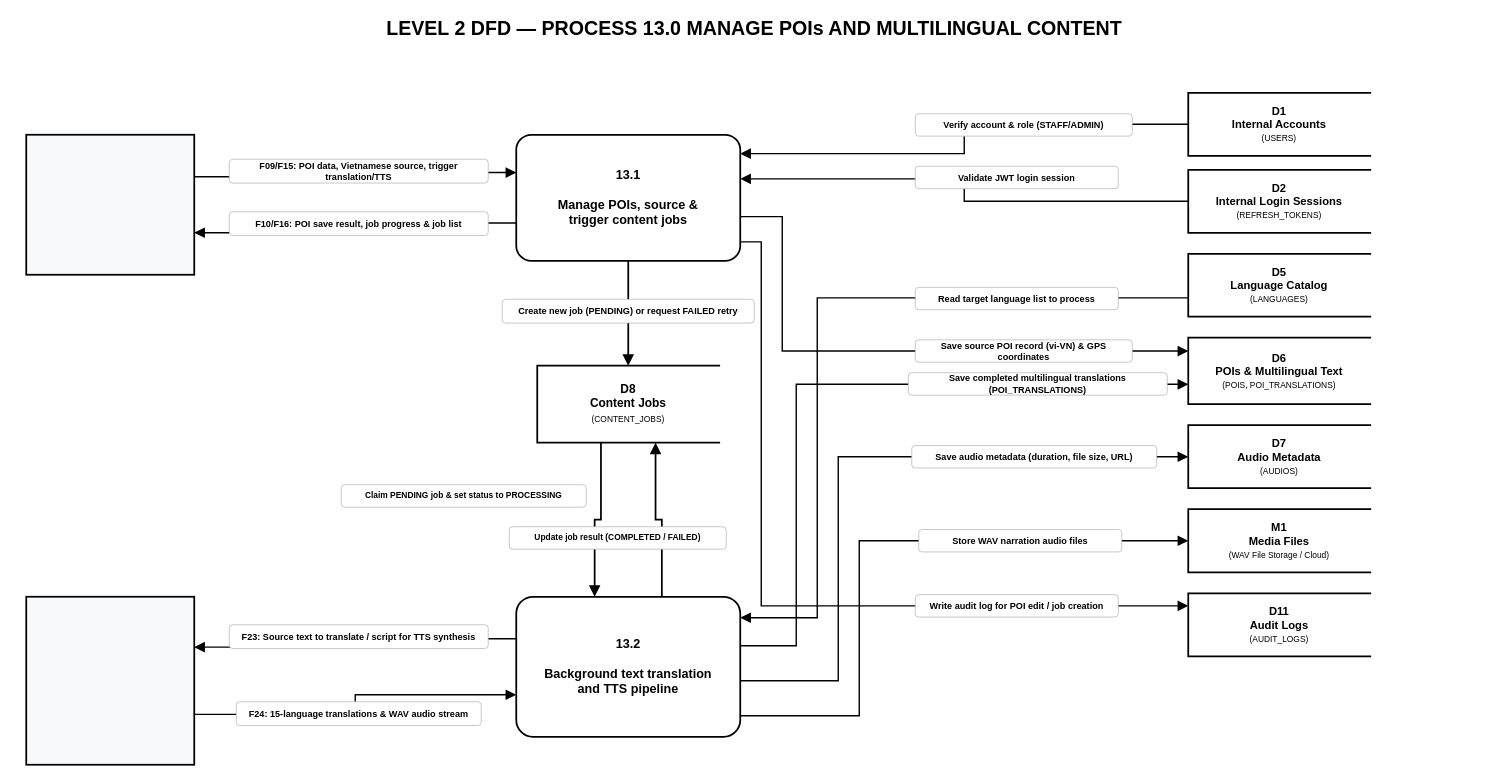
This 1508x778 diagram has some shape labels left out. Each missing label, with the centre of its shape:
"E2 / E3 Staff / Administrator (STAFF / ADMIN)" goes at [110,204].
"E5 Translation & TTS Service (Google Translate / Piper TTS)" goes at [110,680].
